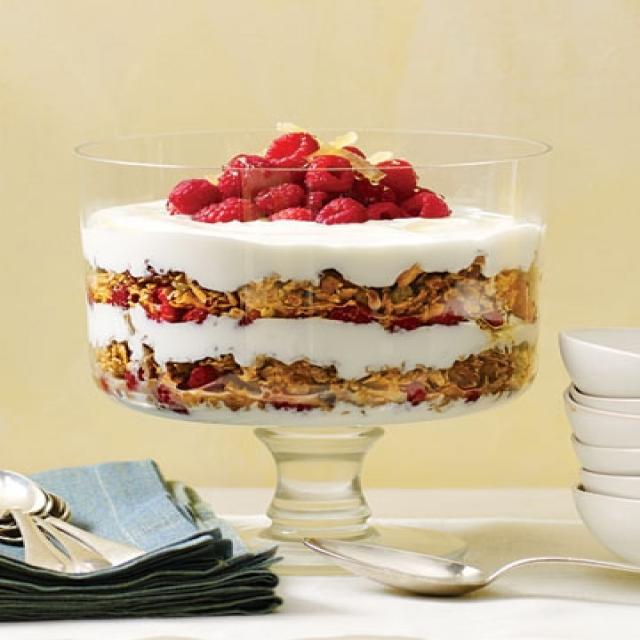蛋糕甜品: (50, 92, 569, 538)
